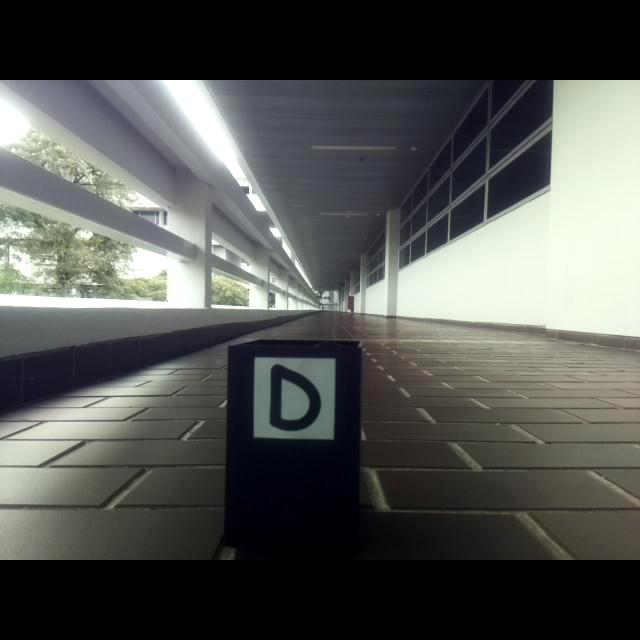D: (270, 364, 321, 432)
